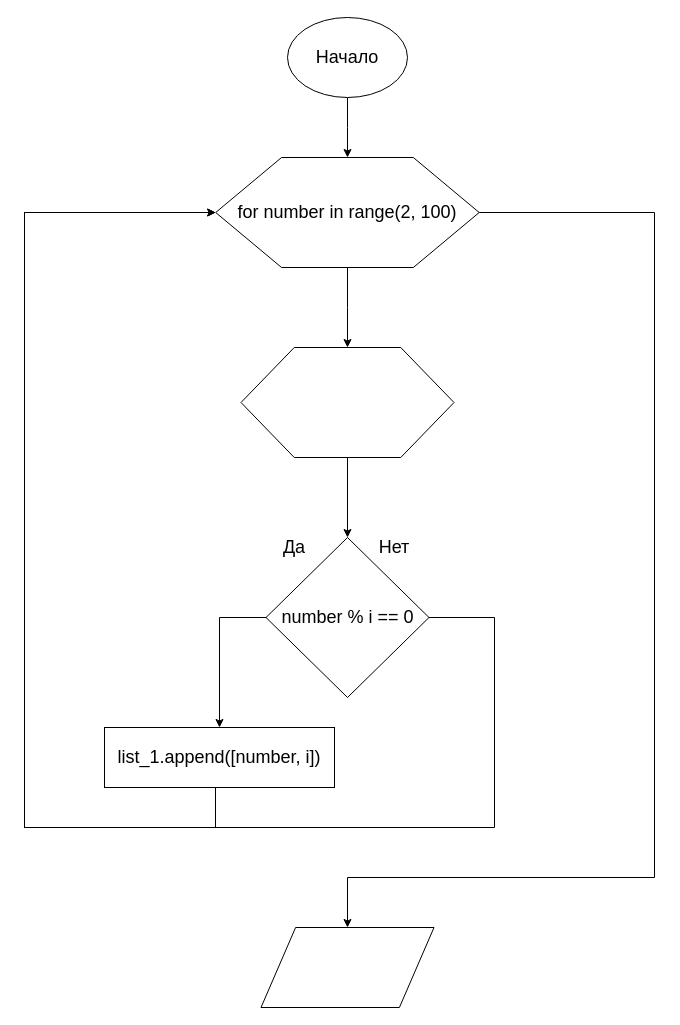
This 680x1025 diagram has some shape labels left out. Each missing label, with the centre of its shape:
"for i in range(2, 10)" belongs at (x=347, y=402).
"Вывод list_1" belongs at (x=347, y=967).
